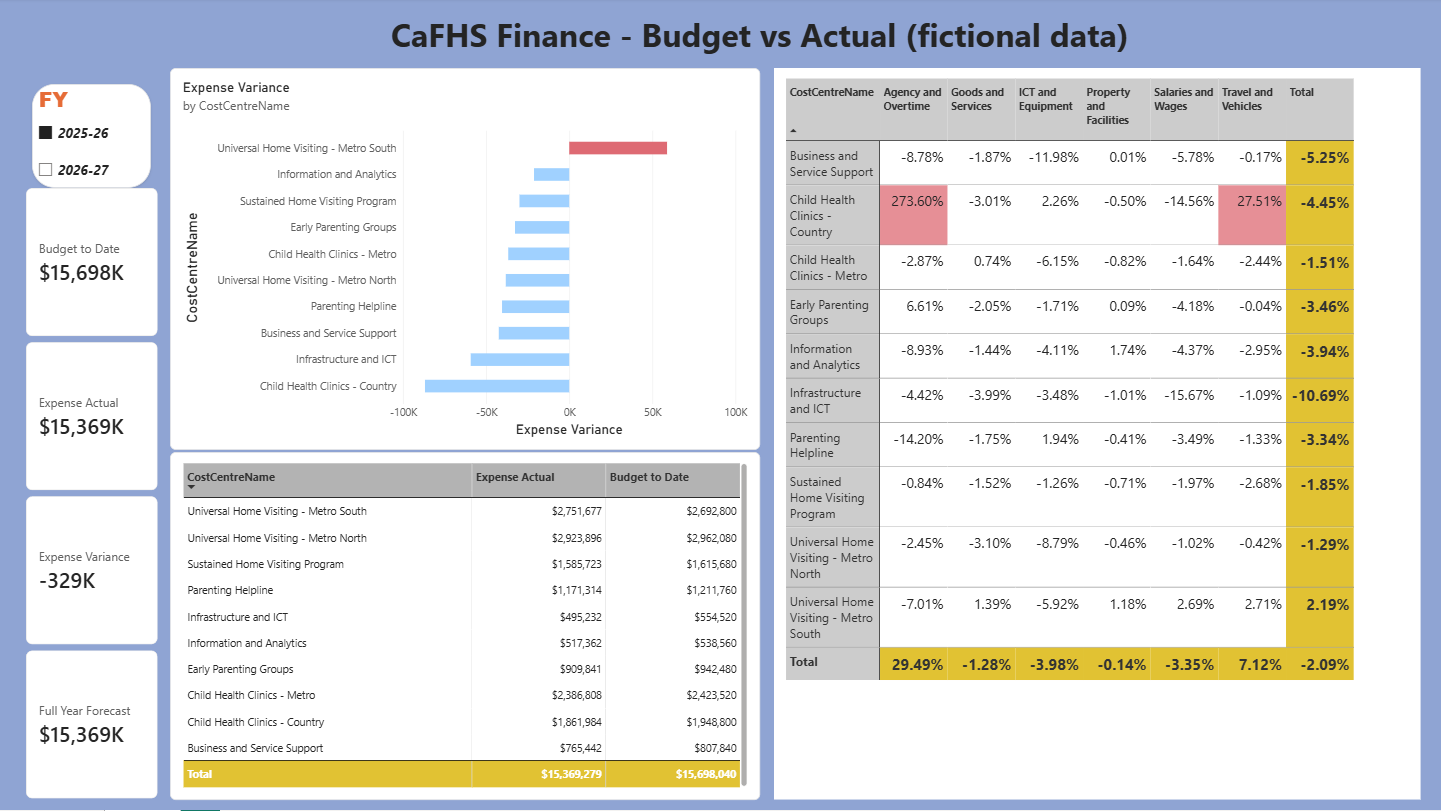

Layout of this report page (visuals, bound fields, positions):
{"tool":"powerbi","page":{"name":"Page 1","canvas":[1920,1080],"ordinal":0},"visuals":[{"type":"tableEx","fields":{"Values":["DimCostCentre.CostCentreName","_measure.Expense Actual","_measure.Budget to Date"]},"box":[230,603.3,785,463.3],"z":0},{"type":"slicer","fields":{"Values":["Date.FY"]},"box":[46.7,115,158.3,138.3],"z":1000},{"type":"cardVisual","fields":{"Data":["_measure.Budget to Date","_measure.Expense Actual","_measure.Expense Variance","_measure.Full Year Forecast"]},"box":[38.3,253.3,175,813.3],"z":2000},{"type":"barChart","fields":{"Category":["DimCostCentre.CostCentreName"],"Y":["_measure.Expense Variance"]},"box":[230,93.3,785,508.3],"z":3000},{"type":"pivotTable","fields":{"Columns":["FactFinance.Account"],"Rows":["DimCostCentre.CostCentreName"],"Values":["_measure.Expense Variance %"]},"box":[1033.3,93.3,860,973.3],"z":4000},{"type":"textbox","box":[213.3,18.3,1603.3,105],"z":4001}]}

Visuals, with their boxes in screenshot pixels (x1, y1, x2, y2), scaled from the page's 1920x1080 canvas onto the 1441x811 screenshot:
tableEx - DimCostCentre.CostCentreName x _measure.Expense Actual: (173, 453, 762, 801)
slicer - Date.FY: (35, 86, 154, 190)
cardVisual - _measure.Budget to Date x _measure.Expense Actual: (29, 190, 160, 801)
barChart - DimCostCentre.CostCentreName x _measure.Expense Variance: (173, 70, 762, 452)
pivotTable - FactFinance.Account x DimCostCentre.CostCentreName: (776, 70, 1421, 801)
textbox: (160, 14, 1363, 93)
